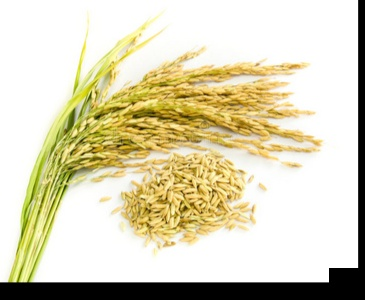rice: (50, 45, 315, 186)
